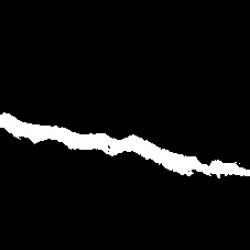crack: (4, 112, 249, 176)
